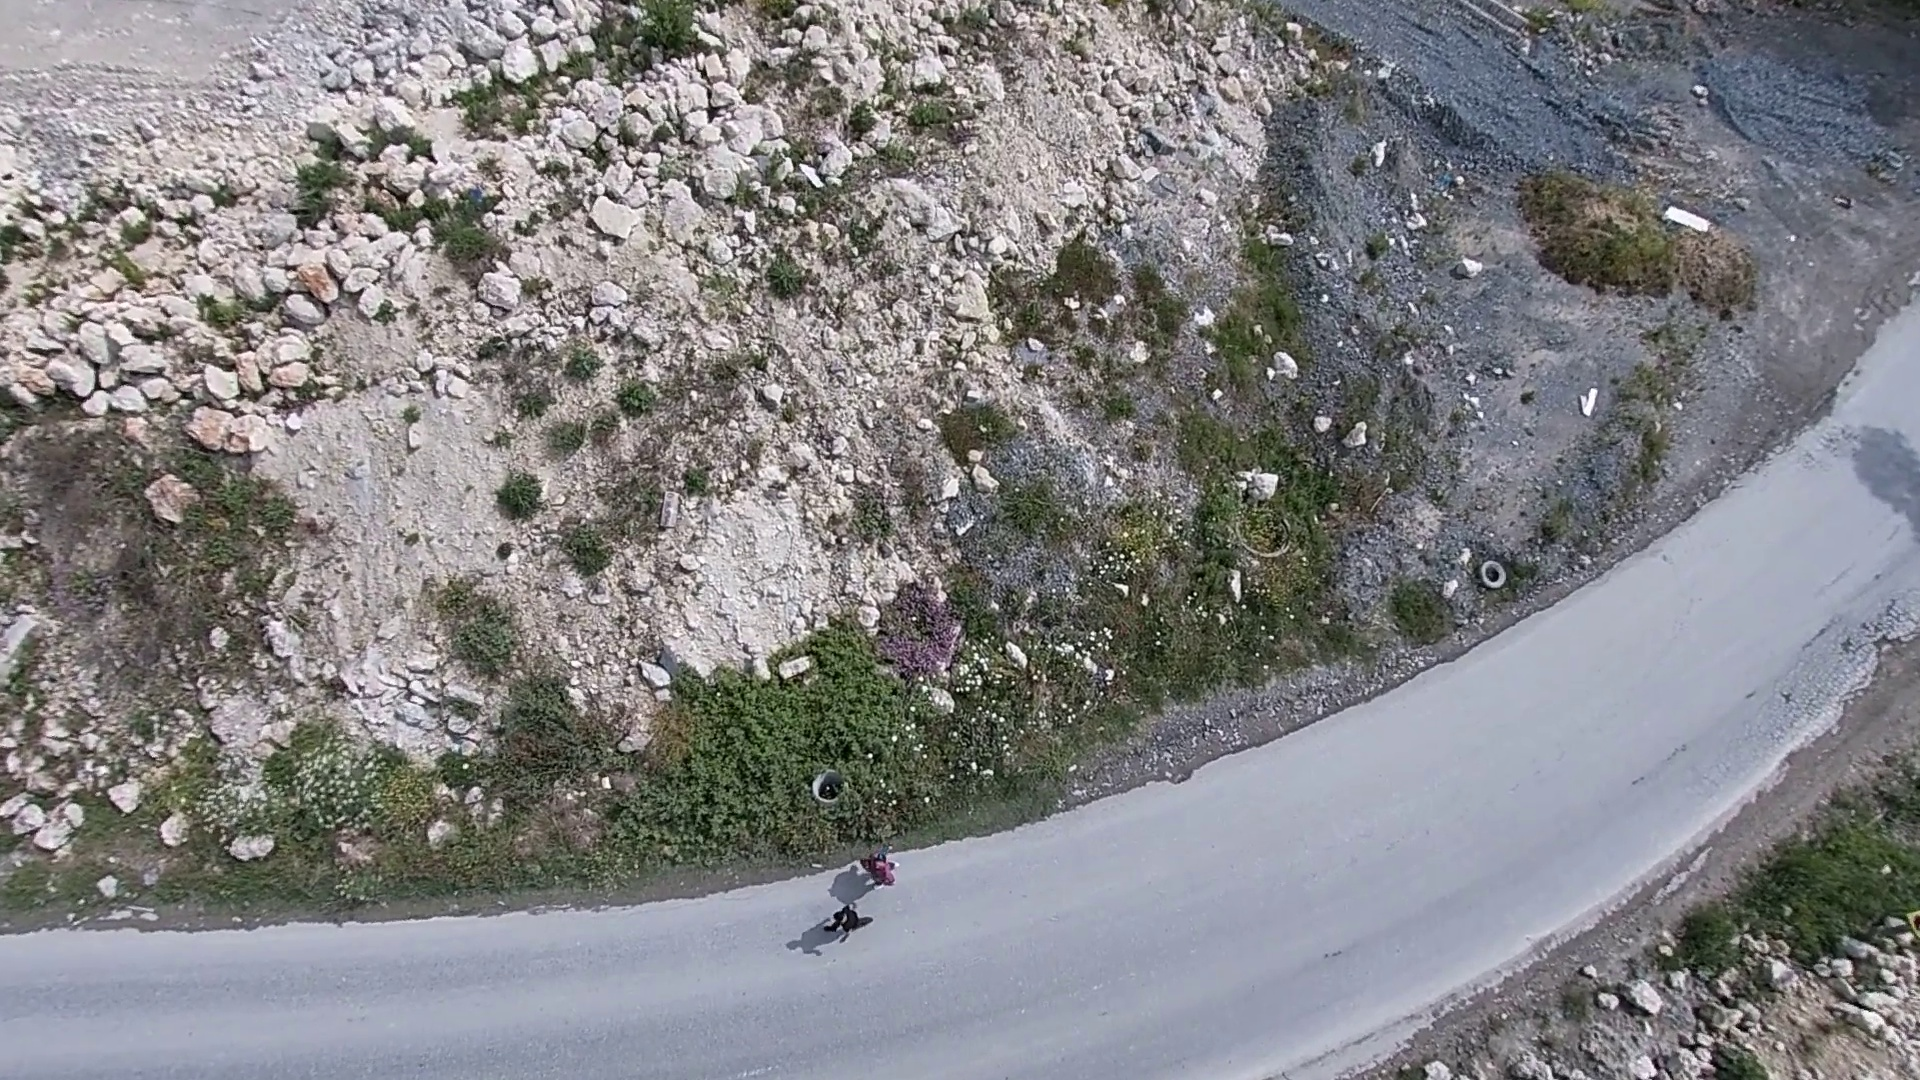insan: (851, 850, 900, 896), (826, 907, 880, 944)
